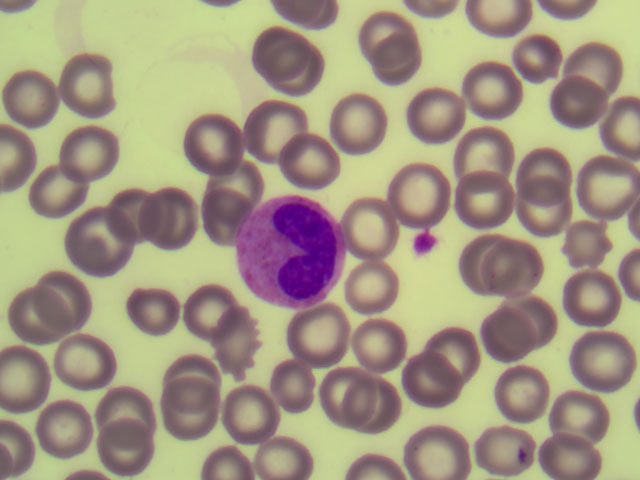Platelets: (410, 224, 442, 261)
RBC: (55, 60, 128, 124), (7, 66, 80, 130), (59, 122, 132, 186), (28, 158, 101, 222), (60, 214, 133, 278), (93, 182, 166, 246), (139, 188, 212, 252), (186, 188, 259, 252), (196, 155, 269, 219), (175, 113, 248, 177), (176, 113, 249, 177), (240, 100, 313, 164), (271, 37, 344, 101), (247, 25, 320, 89), (329, 90, 393, 158), (404, 86, 468, 154), (458, 61, 522, 129), (511, 25, 575, 93), (535, 56, 599, 124), (553, 33, 617, 101), (576, 152, 640, 220), (516, 177, 580, 245), (509, 140, 573, 208), (459, 166, 523, 234), (451, 123, 515, 191), (400, 154, 464, 222), (337, 189, 401, 257), (337, 246, 401, 314), (303, 294, 367, 362), (346, 306, 410, 374), (400, 353, 464, 421), (433, 319, 497, 387), (471, 308, 535, 376), (497, 277, 561, 345), (496, 234, 560, 302), (455, 230, 519, 298), (550, 266, 614, 334), (558, 201, 622, 269), (564, 323, 628, 391), (546, 376, 610, 444), (535, 412, 599, 480), (469, 412, 533, 480), (495, 363, 559, 431), (412, 412, 476, 480), (350, 376, 414, 444), (311, 354, 375, 422), (269, 354, 333, 422), (221, 384, 285, 452), (243, 412, 307, 480), (154, 381, 218, 449), (158, 341, 222, 409), (219, 304, 283, 372), (194, 282, 258, 350), (134, 279, 198, 347), (5, 290, 69, 358), (30, 259, 94, 327), (57, 326, 121, 394), (29, 396, 93, 464), (95, 376, 159, 444), (1, 345, 64, 413), (90, 420, 155, 480)
WBC: (233, 192, 344, 313)
